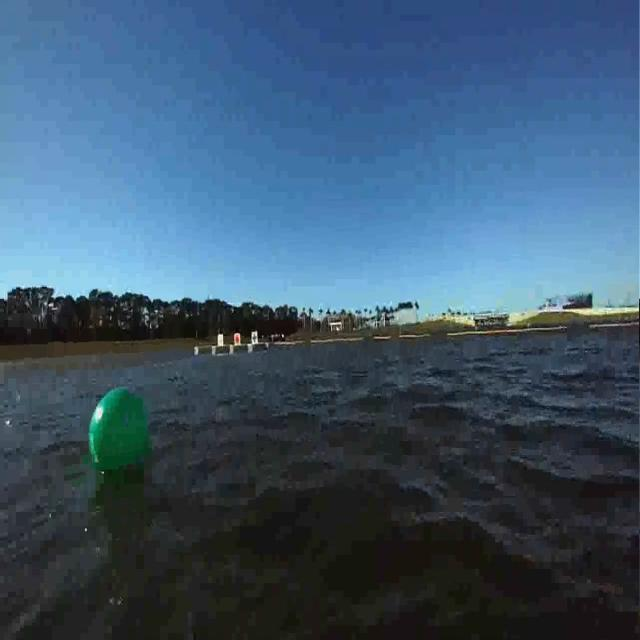green-buoy: (85, 384, 154, 480)
